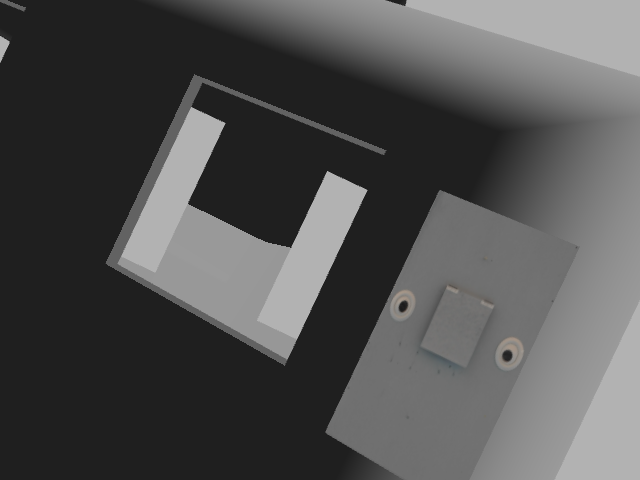facade: (389, 282, 526, 372)
